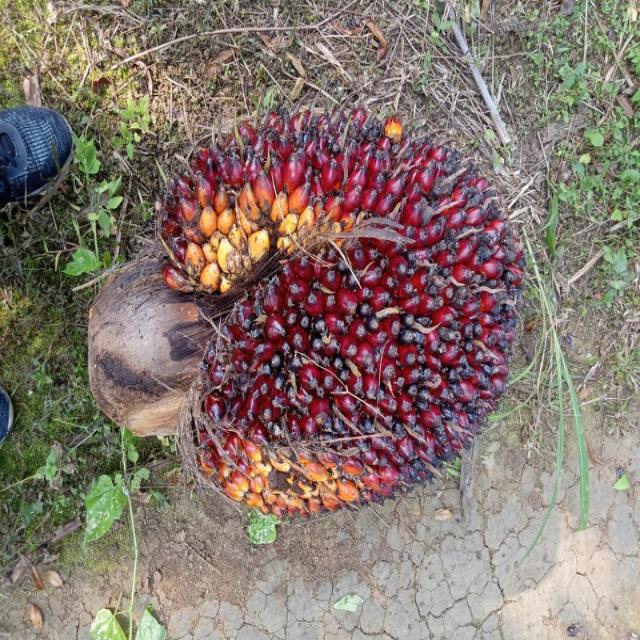fraksi 1: (152, 118, 519, 526)
